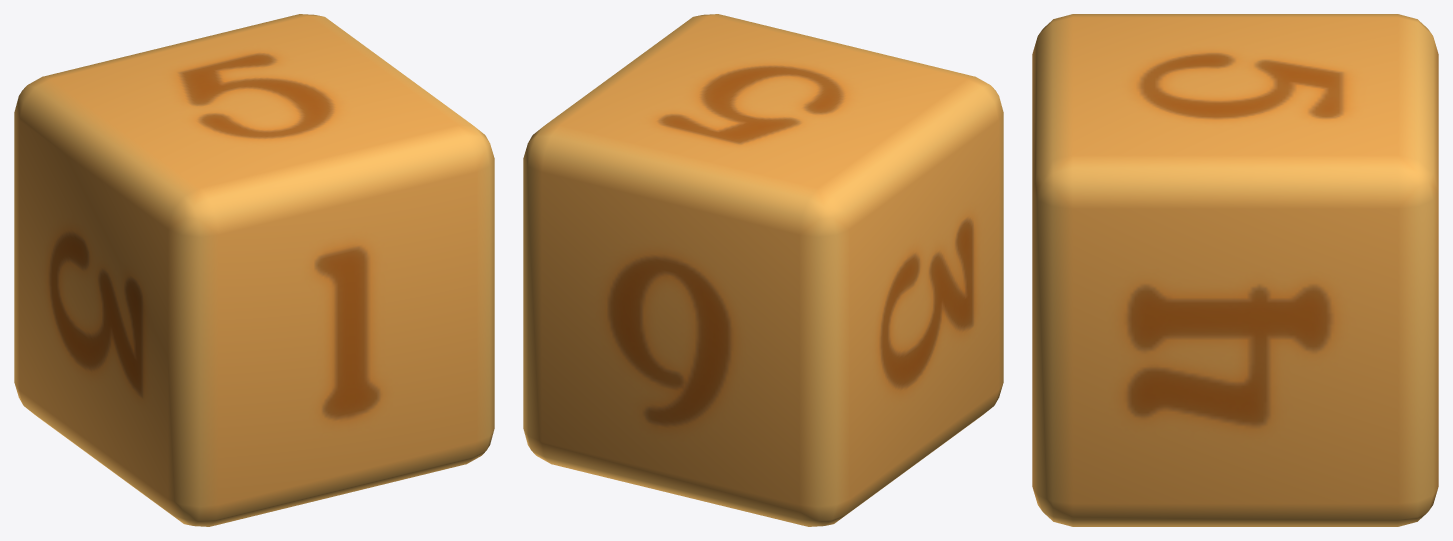
Rendered from D6_C_yellow.glb.
3 views of the same model, side by side, from view 1: azimuth 30°, elevation 25°; view 2: azimuth 150°, elevation 25°; view 3: azimuth 270°, elevation 25° (orthographic). The views are drawn at different scales.
Parts seen in each view (by area): view 1: D6_C_yellow; view 2: D6_C_yellow; view 3: D6_C_yellow.
Part boxes in pixels (x1=…): D6_C_yellow: x1=14, y1=14, x2=494, y2=526; D6_C_yellow: x1=523, y1=14, x2=1003, y2=526; D6_C_yellow: x1=1032, y1=14, x2=1438, y2=526.
Bounding box in the file's own units: 0.75 × 0.75 × 0.75.
Materials: 1 (1 with a texture image).
